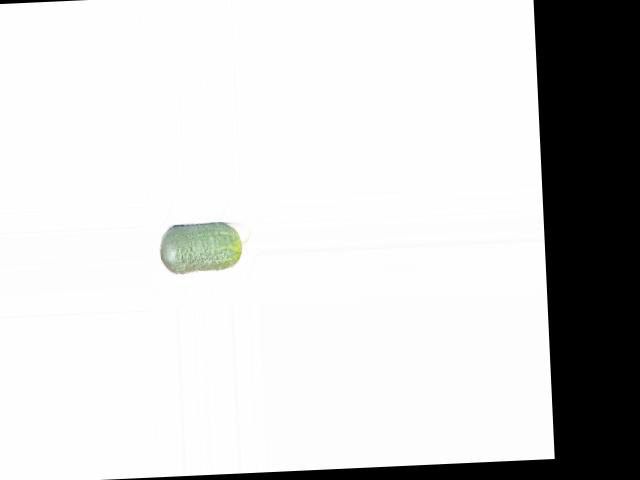cucumber: (158, 221, 252, 274)
